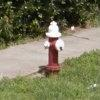a fire hydrant: (45, 21, 65, 72)
